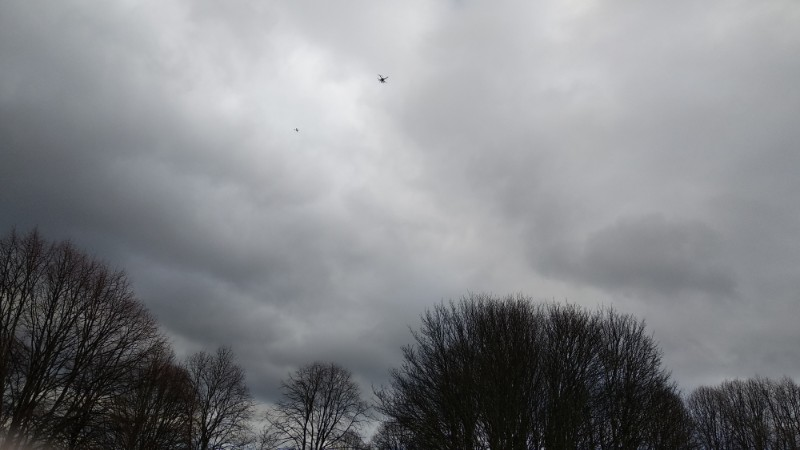drone: (377, 74, 389, 83)
